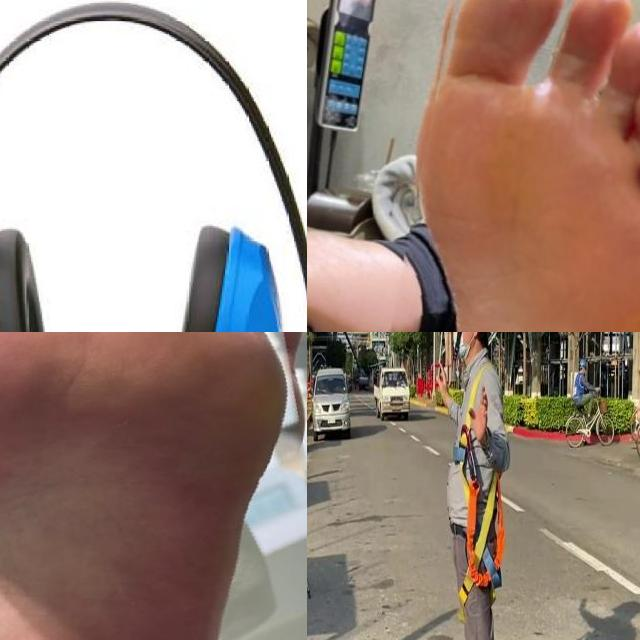Barefoots: (0, 332, 307, 640), (409, 0, 640, 332)
Ear-protection: (0, 28, 307, 332)
Harness: (460, 425, 506, 606)
